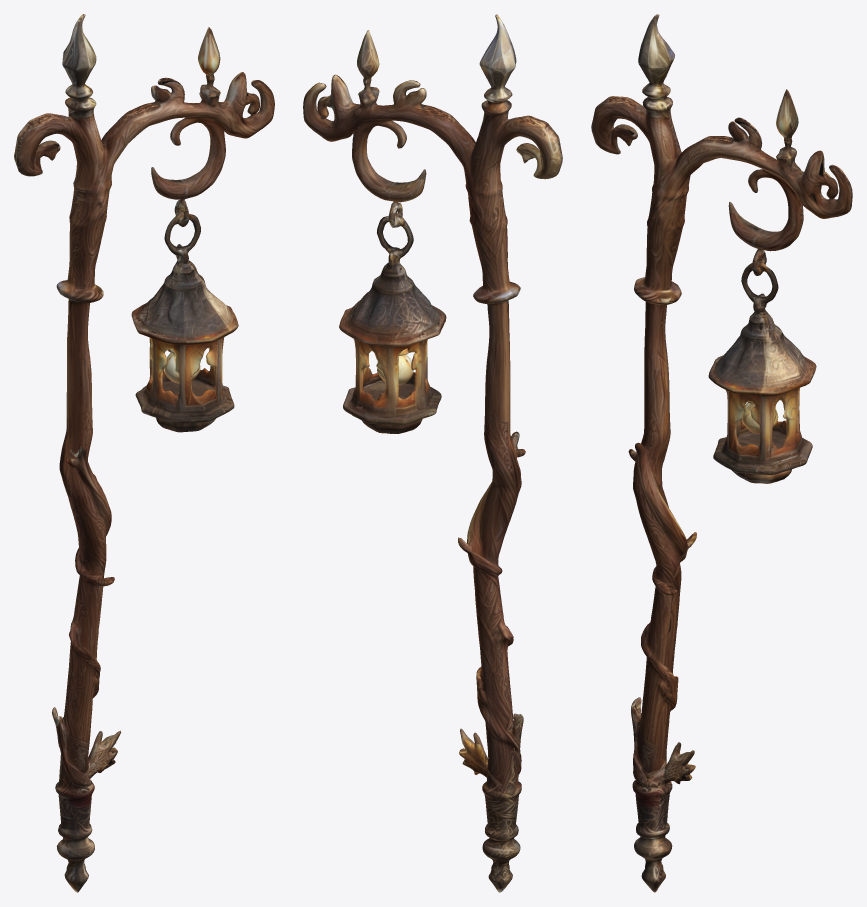
File: a_realistic_magician__0613142239_.fbx
The picture shows the model from 3 angles, left to right: view 1: azimuth 30°, elevation 25°; view 2: azimuth 150°, elevation 25°; view 3: azimuth 330°, elevation 25°; orthographic projection.
Visible parts, largest first — view 1: Mesh_0; view 2: Mesh_0; view 3: Mesh_0.
Boxes of the visible parts, x1=… form: Mesh_0: x1=14, y1=14, x2=274, y2=892; Mesh_0: x1=303, y1=14, x2=562, y2=892; Mesh_0: x1=591, y1=14, x2=852, y2=892.
Bounding box in the file's own units: 61.66 × 200 × 23.29.
Materials: 1 (1 with a texture image).
